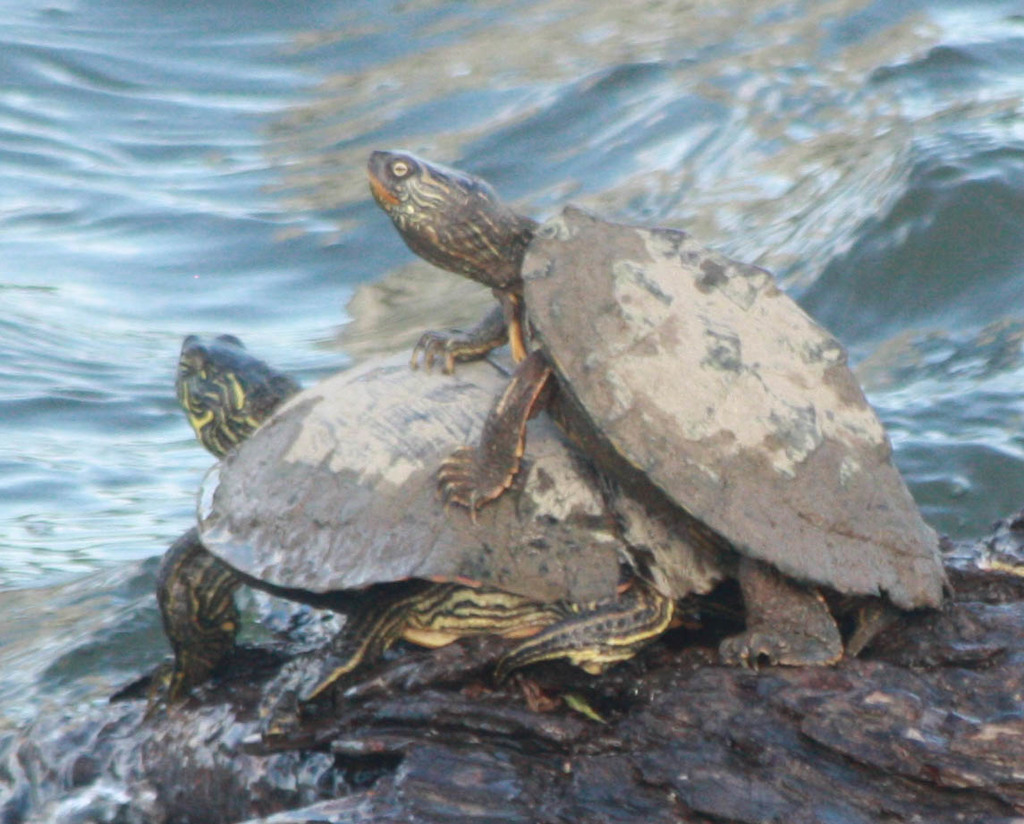Sea turtles: (363, 147, 947, 675), (147, 333, 719, 747)
